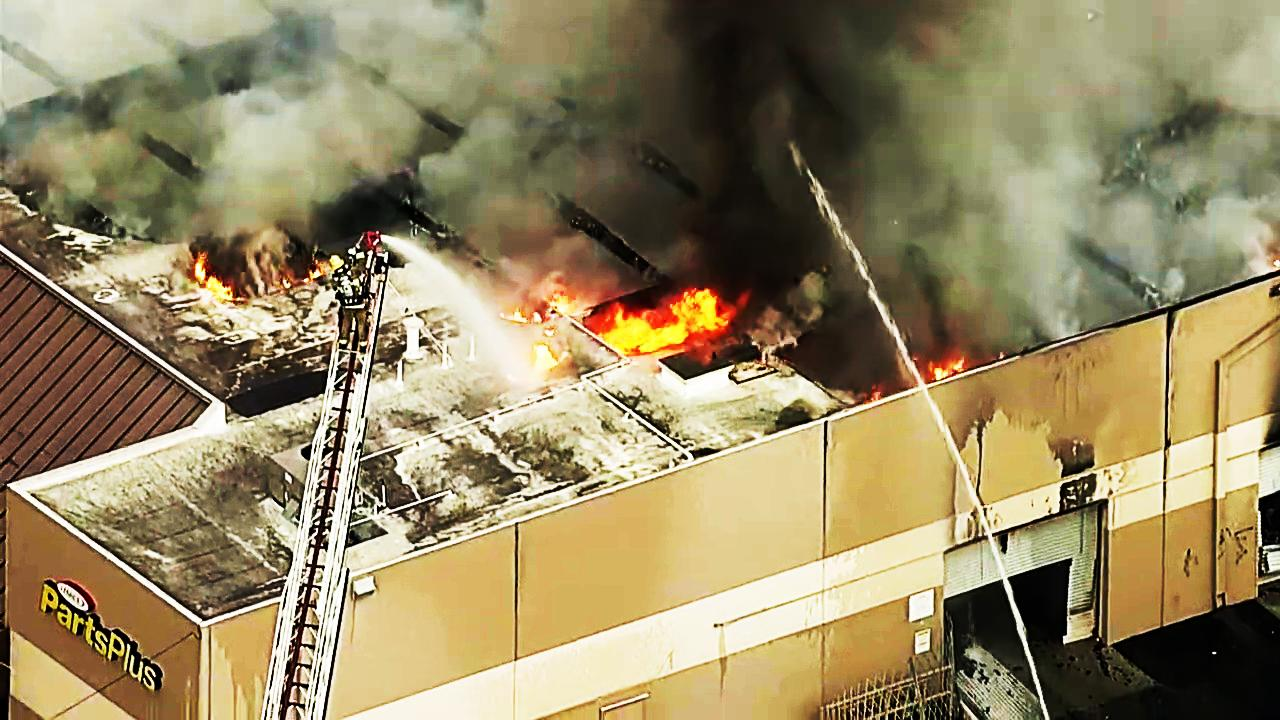fire: (606, 0, 908, 228), (597, 272, 754, 360)
